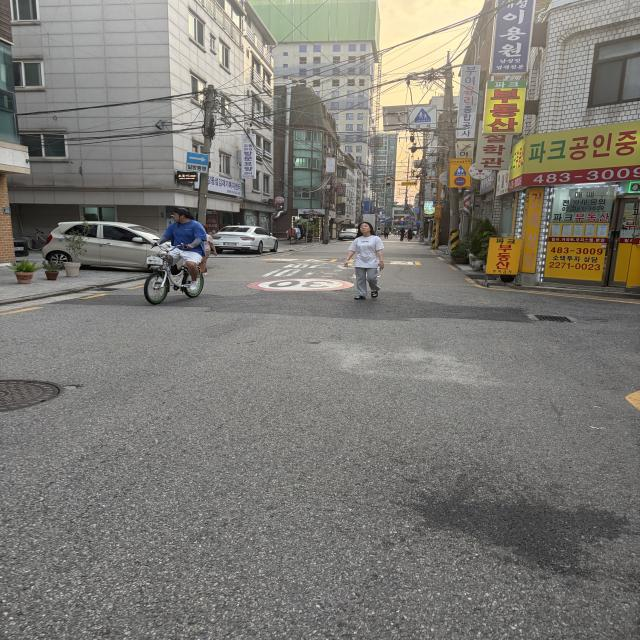bicycle: (136, 204, 222, 311)
car: (48, 214, 193, 284)
